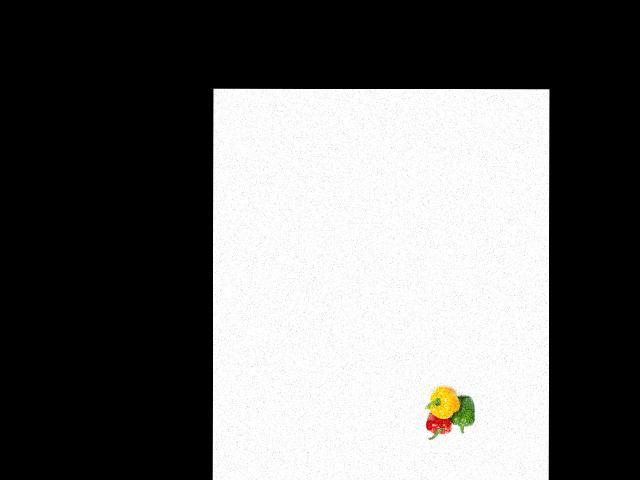bell_pepper: (421, 407, 455, 443)
